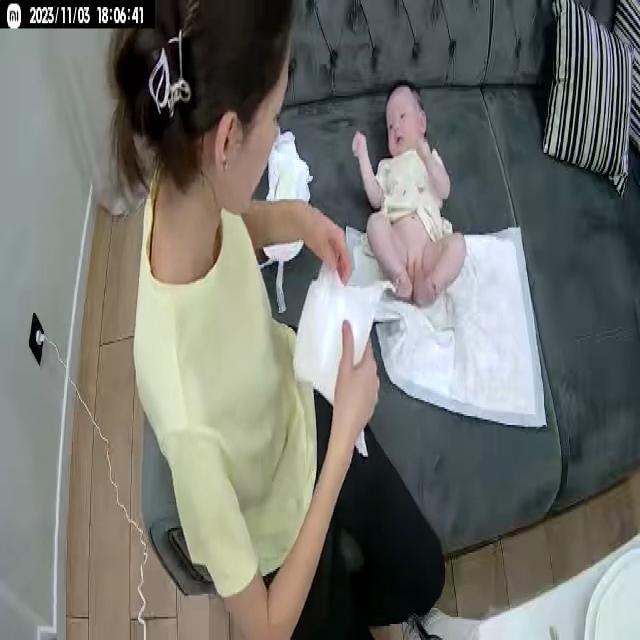baby: (353, 76, 468, 316)
